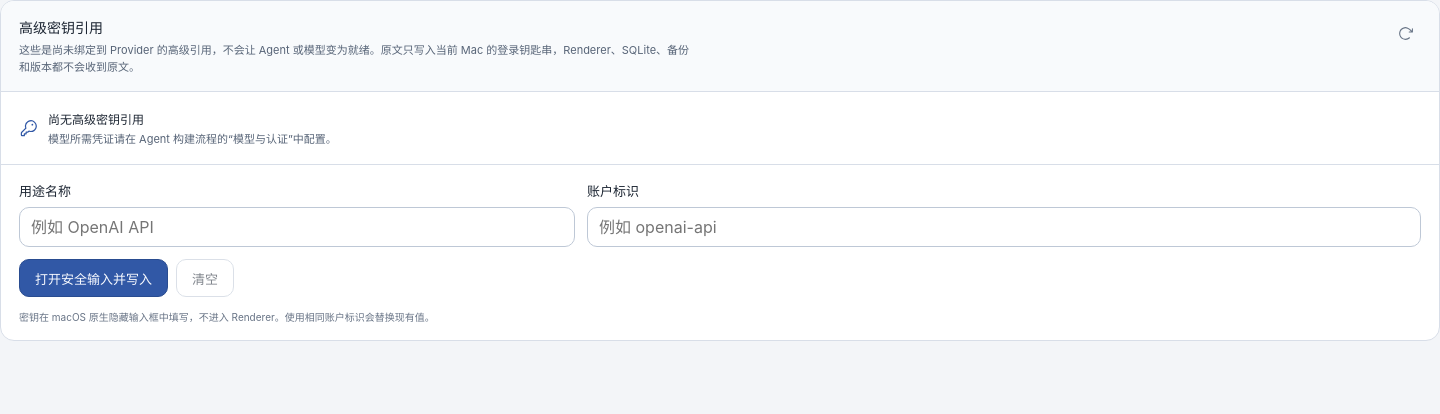
it: SecretReferencesPanel › keeps metadata available when native secure input is cancelled
Expected: the text "尚无高级密钥引用" is shown, [48,112,144,127]
Type "Cancelled API" into the field labelled "用途名称".
click(297, 227); type("Cancelled API")  # box [19,207,575,247]
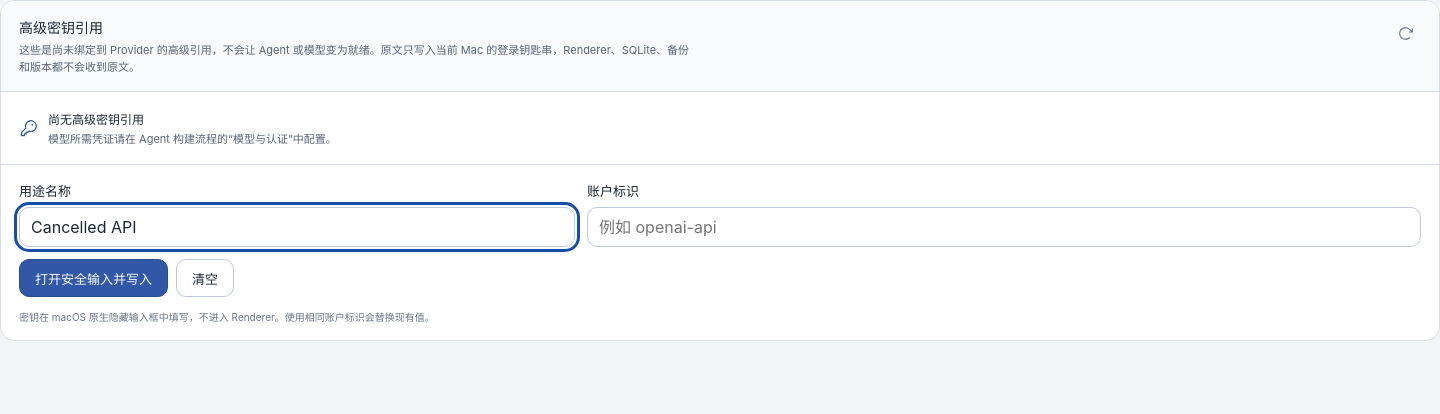
Type "cancelled-api" into the field labelled "账户标识".
click(1004, 227); type("cancelled-api")  # box [587,207,1421,247]
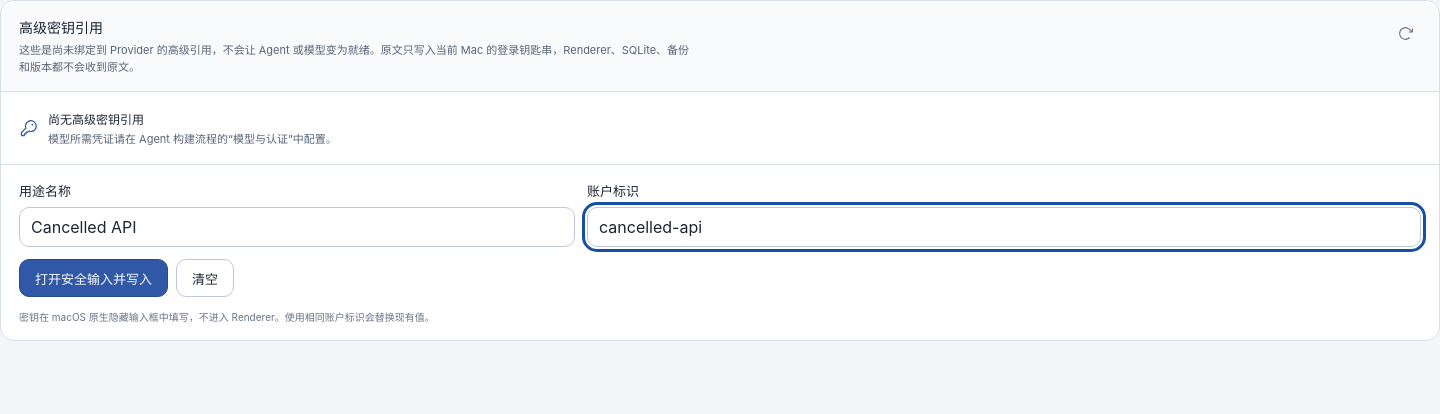
Click the button "打开安全输入并写入".
click(94, 278)  # box [19,259,168,297]
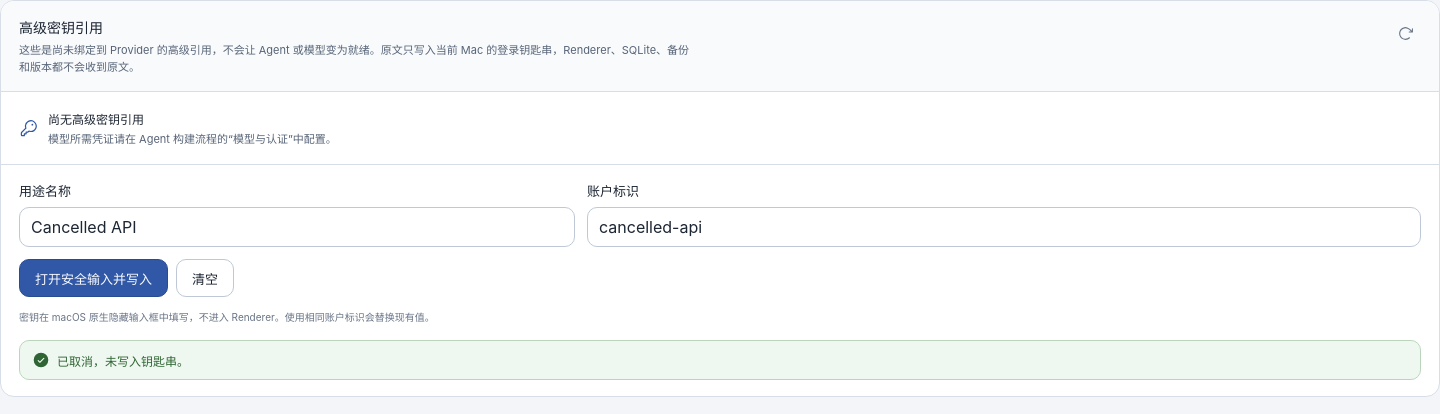
Result: the text "已取消，未写入钥匙串。" is shown at [19,340,1421,380]
